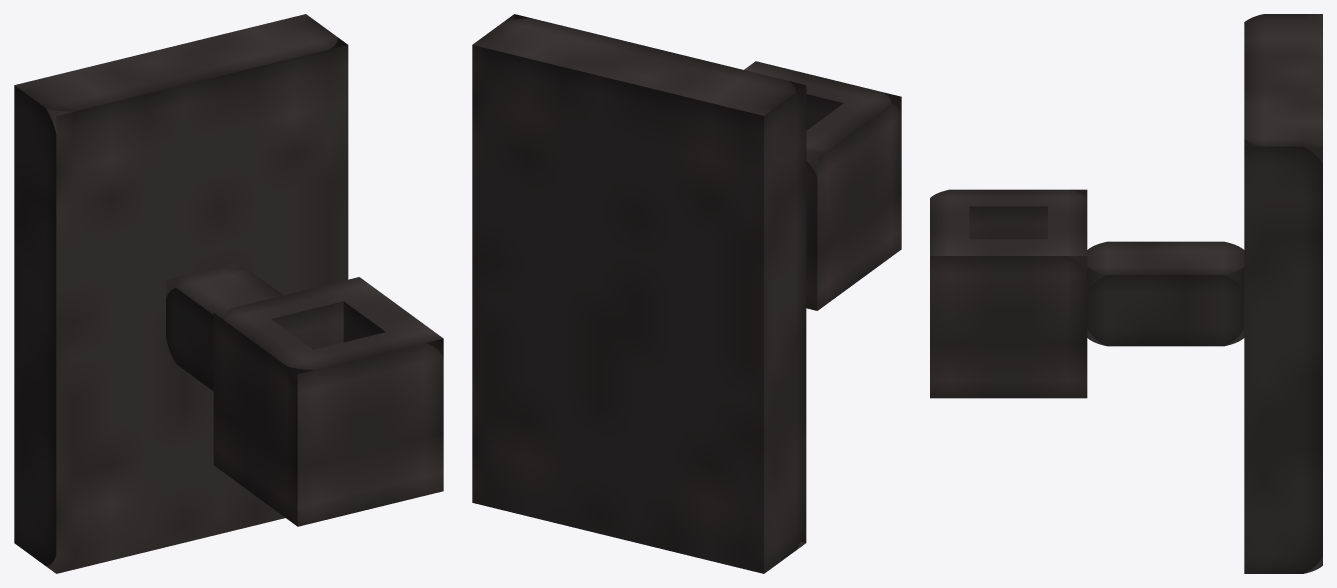
Rendered from Wall_Holder.fbx.
The picture shows the model from 3 angles, left to right: view 1: azimuth 30°, elevation 25°; view 2: azimuth 150°, elevation 25°; view 3: azimuth 270°, elevation 25°; orthographic projection. The views are drawn at different scales.
Parts seen in each view (by area): view 1: Wall_Holder; view 2: Wall_Holder; view 3: Wall_Holder.
Part boxes in pixels (left/top/right/bottom): Wall_Holder: left=14, top=14, right=443, bottom=573; Wall_Holder: left=472, top=14, right=901, bottom=573; Wall_Holder: left=930, top=14, right=1322, bottom=573.
Bounding box in the file's own units: 50 × 75 × 62.5.
Materials: 1 (1 with a texture image).
